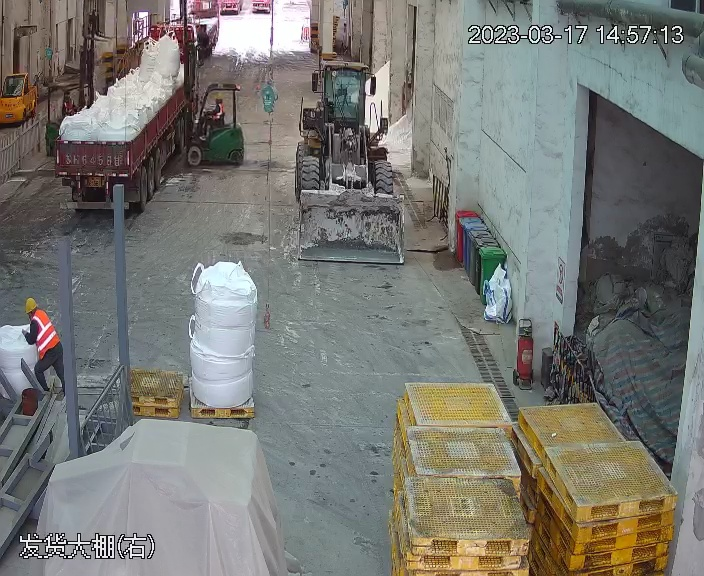head: (23, 297, 52, 331), (214, 93, 225, 112)
helmet: (23, 296, 38, 313), (210, 92, 225, 101)
people: (22, 297, 64, 396), (200, 91, 226, 143)
truck: (43, 3, 219, 215)
